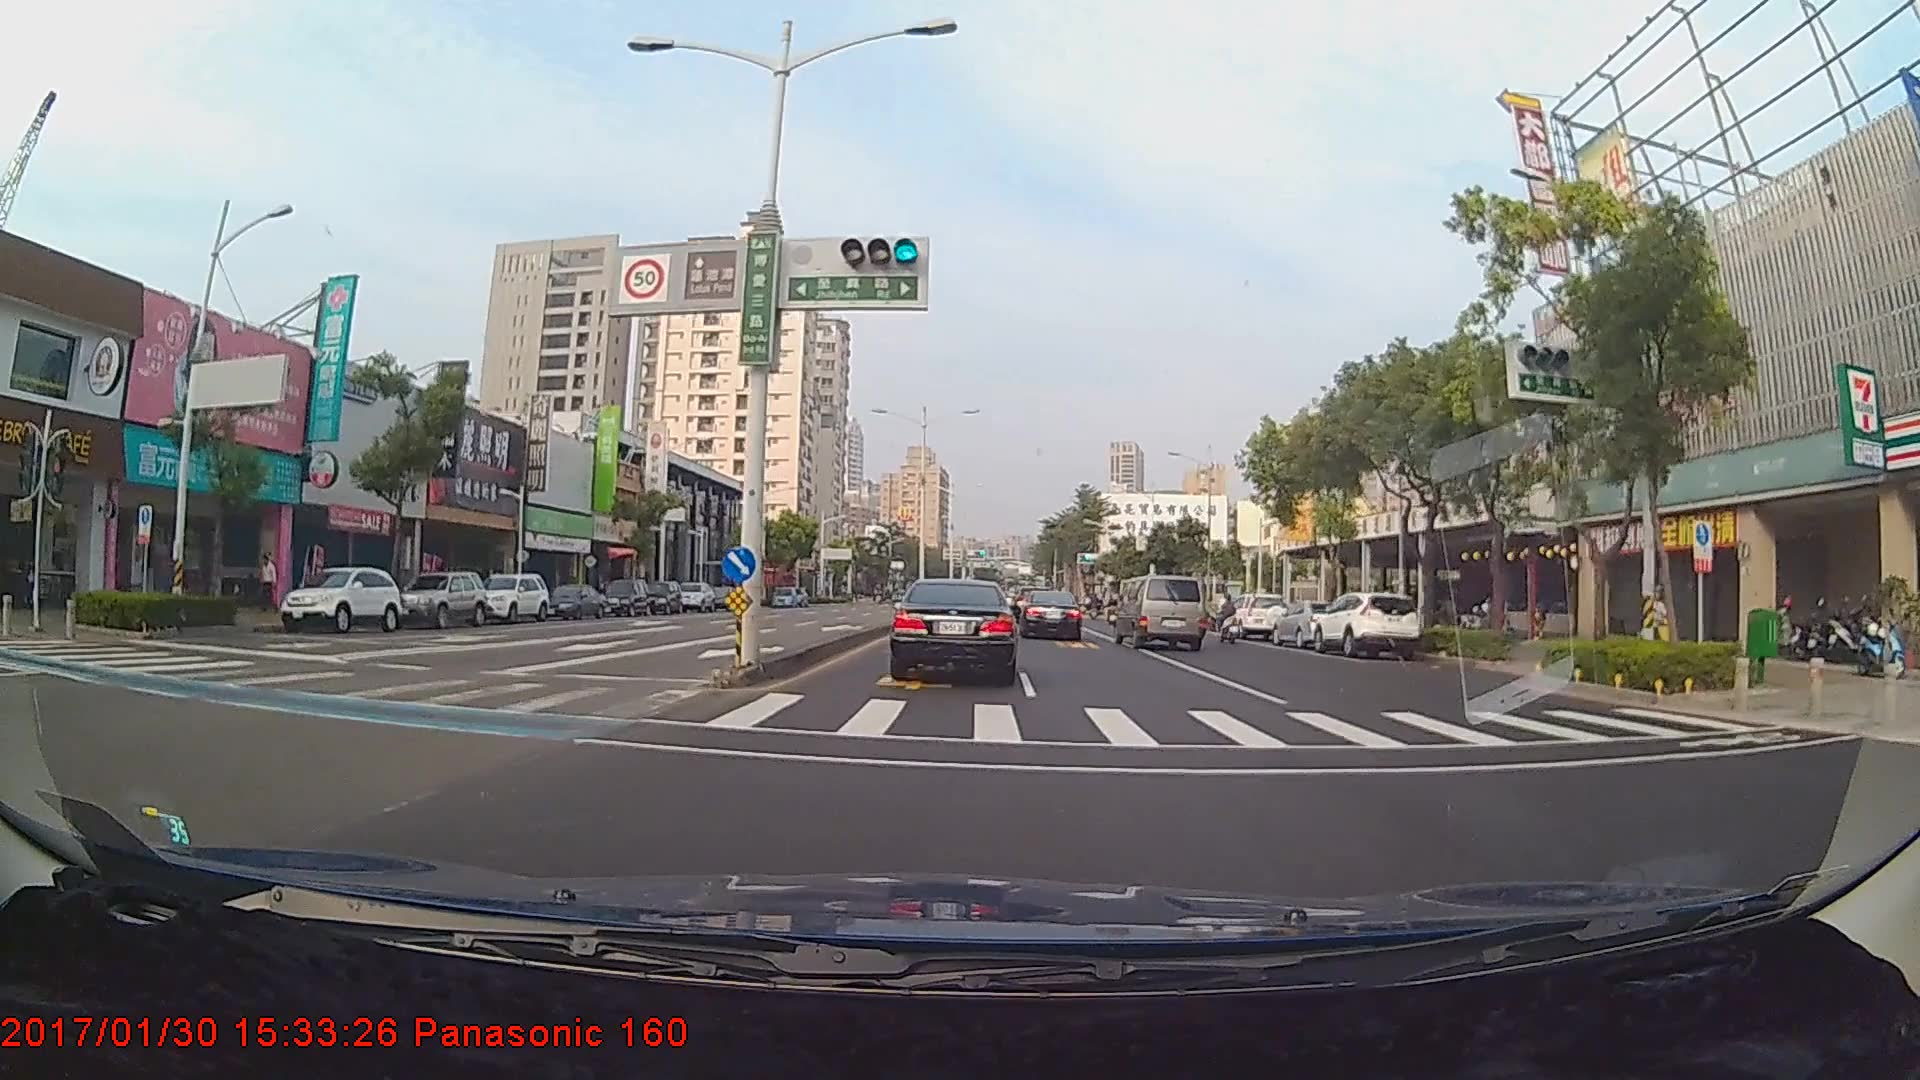pedestrian: (257, 556, 279, 616)
rider: (1211, 594, 1247, 644)
vehicle: (889, 577, 1016, 682), (274, 565, 400, 632), (1308, 588, 1423, 656), (1116, 574, 1205, 651), (385, 568, 485, 627), (472, 573, 551, 625), (1272, 598, 1349, 646), (1014, 589, 1082, 642), (538, 581, 606, 622), (1232, 593, 1284, 640), (599, 578, 650, 618), (637, 581, 680, 616), (676, 581, 717, 613)
